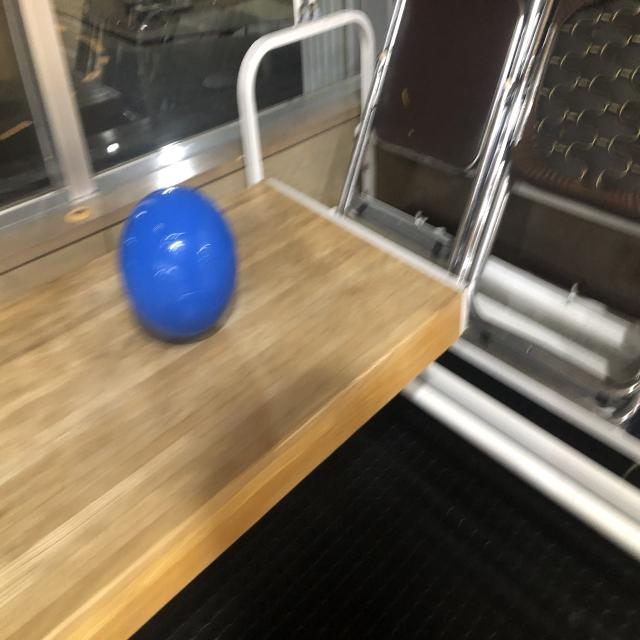blue_ball: (118, 185, 236, 342)
